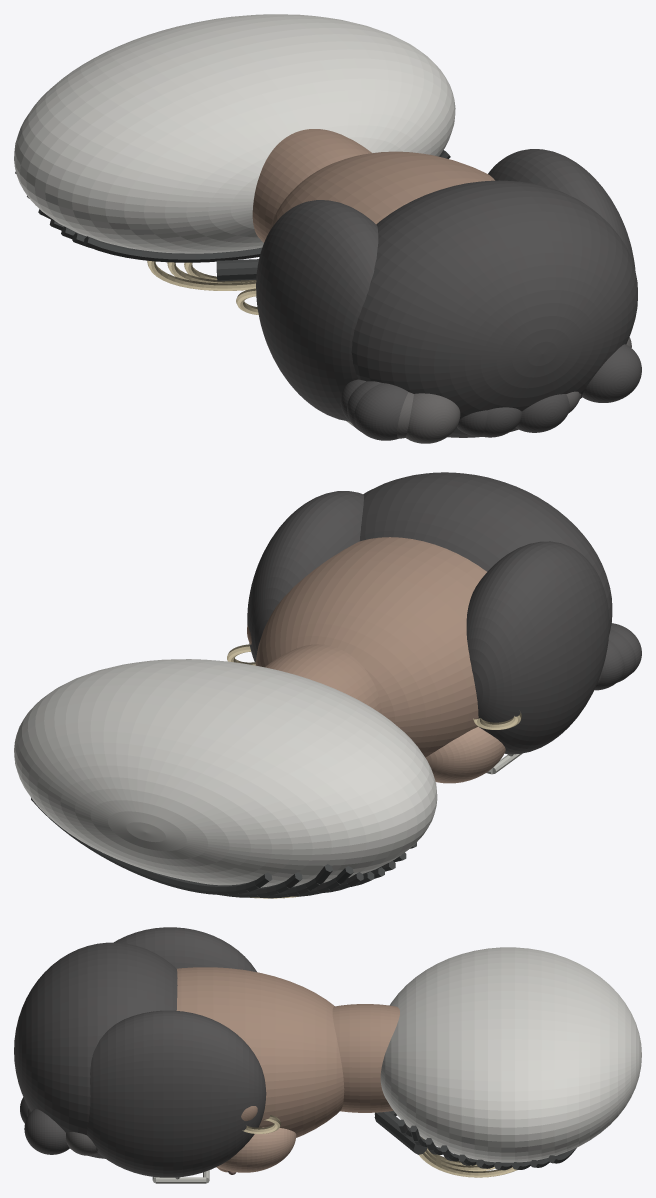
File: shirley_chisholm_face (1).glb
3 renders of one model, top to bottom at view 1: azimuth 30°, elevation 25°; view 2: azimuth 150°, elevation 25°; view 3: azimuth 270°, elevation 25°, orthographic. The views are drawn at different scales.
Parts seen in each view (by area): view 1: shoulders_blouse, hair_cap, hair_left, face, neck, hair_right, curl_2, curl_25, curl_33, curl_5, necklace_1, curl_19 (+1 smaller); view 2: shoulders_blouse, face, hair_left, hair_cap, hair_right, neck, left_cheek, curl_40, curl_38; view 3: shoulders_blouse, hair_right, hair_cap, face, neck, hair_left, right_cheek, curl_25, collar_1, necklace_1, curl_9.
Part boxes in pixels (x1,y1,x2,y2): shoulders_blouse: [14, 14, 455, 253]; hair_cap: [351, 180, 637, 437]; hair_left: [256, 200, 378, 421]; face: [269, 151, 494, 231]; neck: [252, 129, 371, 242]; hair_right: [488, 149, 635, 269]; curl_2: [354, 383, 408, 440]; curl_25: [582, 344, 641, 402]; curl_33: [406, 393, 460, 443]; curl_5: [515, 394, 569, 432]; necklace_1: [147, 260, 256, 290]; curl_19: [481, 407, 521, 437]; shoulders_blouse: [14, 659, 437, 887]; face: [255, 537, 486, 757]; hair_left: [466, 541, 609, 754]; hair_cap: [359, 472, 612, 634]; hair_right: [247, 491, 363, 661]; neck: [265, 644, 381, 713]; left_cheek: [425, 726, 505, 783]; curl_40: [594, 640, 624, 690]; curl_38: [608, 629, 635, 682]; shoulders_blouse: [380, 947, 641, 1162]; hair_right: [87, 1010, 266, 1177]; hair_cap: [14, 942, 177, 1158]; face: [176, 967, 344, 1137]; neck: [332, 1004, 399, 1112]; hair_left: [114, 927, 256, 972]; right_cheek: [217, 1127, 296, 1172]; curl_25: [24, 1109, 69, 1154]; collar_1: [374, 1111, 427, 1154]; necklace_1: [419, 1152, 517, 1177]; curl_9: [66, 1132, 97, 1155].
Size of the model in its own units: 2.04 by 1.25 by 3.38.
